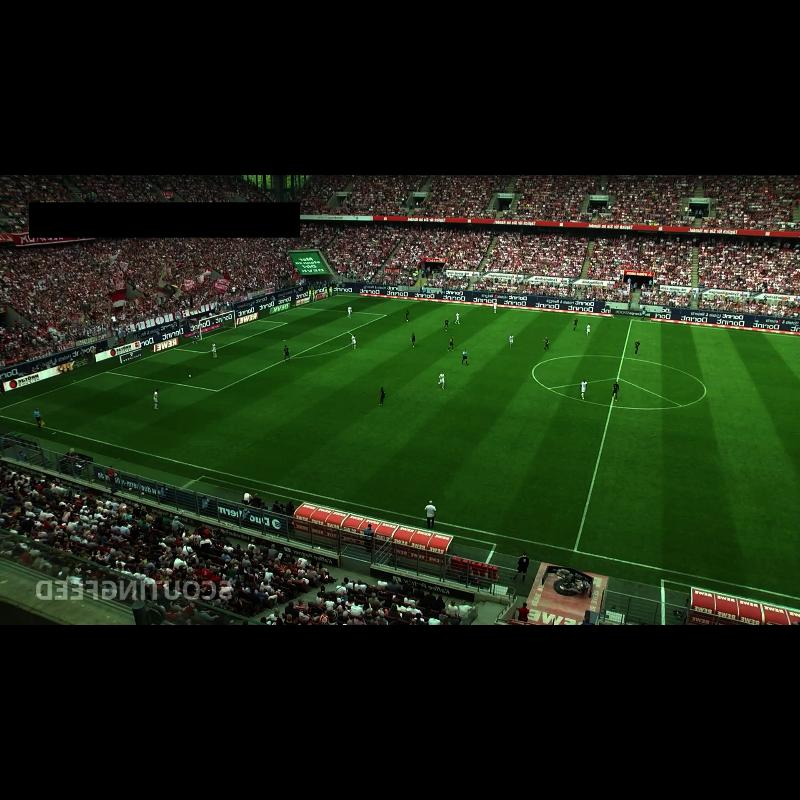cross_recipient_zone: (106, 307, 387, 391)
crossing_player_zone: (0, 372, 314, 469), (299, 295, 479, 320)
pitch: (0, 295, 800, 599)
